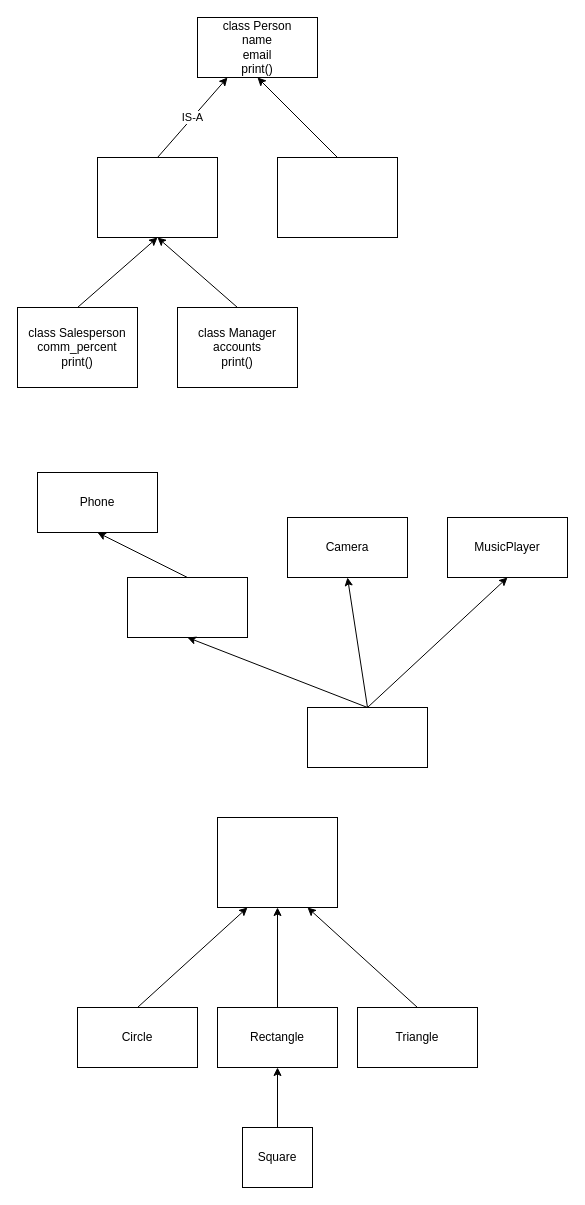
Image size: 585x1205. Some labels were removed from this diagram. Here are the shapes that lost their labels. From the top down, the box of each, then its label:
(96, 156, 218, 238): class Employee id salary print()
(276, 156, 398, 238): class Student rollno gpa print()
(126, 576, 248, 638): MobilePhone
(306, 706, 428, 768): SmartPhone
(216, 816, 338, 908): GeometricShape paint() draw() find_area()
